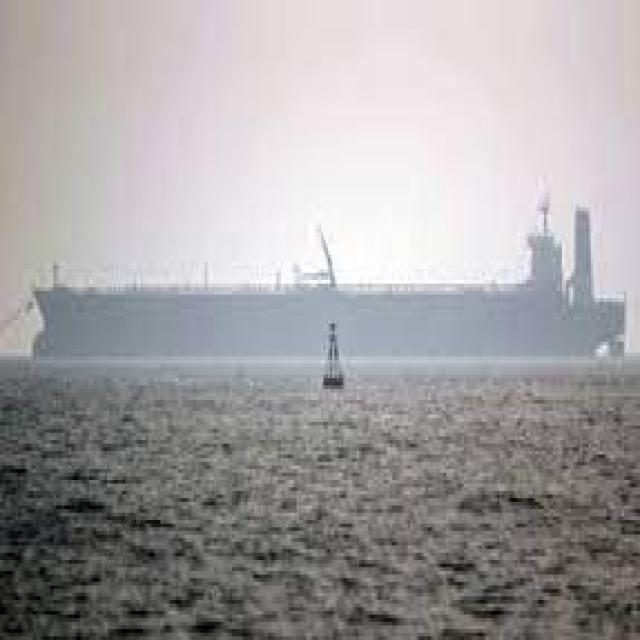cargoship: (30, 213, 630, 363)
